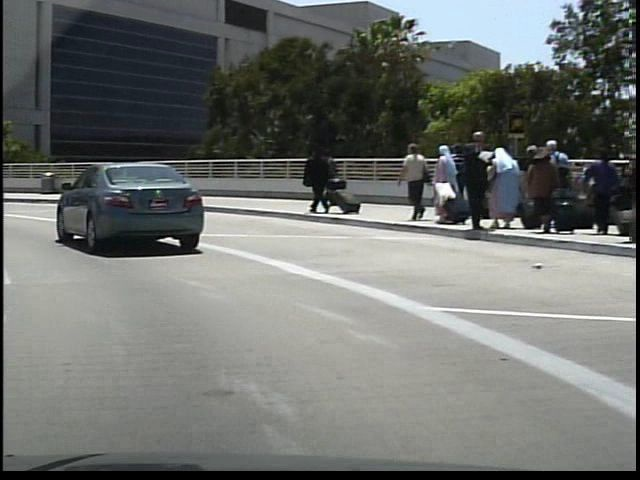person: (455, 125, 494, 233), (393, 141, 429, 221), (297, 142, 332, 214), (319, 151, 339, 207)
